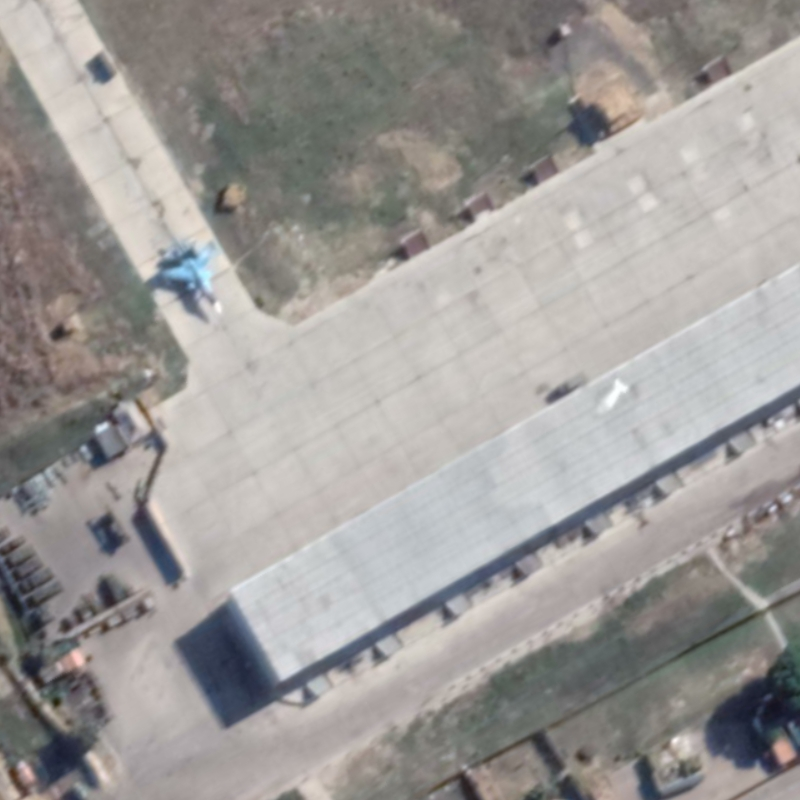A19: (156, 239, 226, 317)
